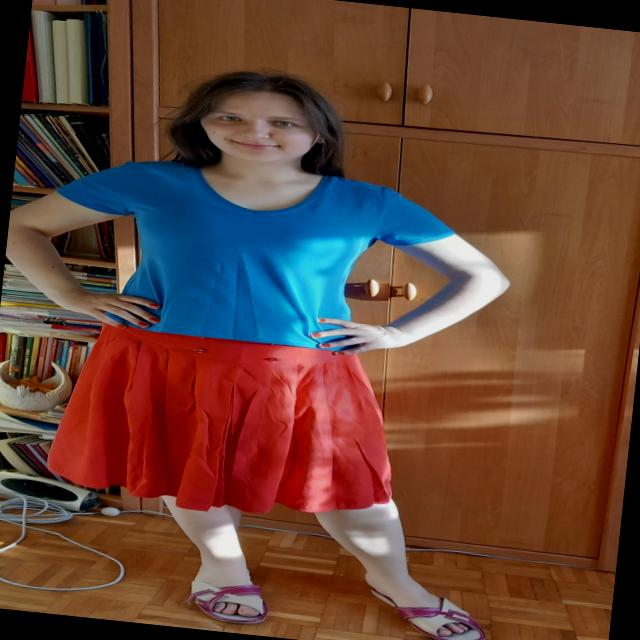Tshirt: (40, 147, 463, 363)
skirt: (43, 316, 407, 530)
